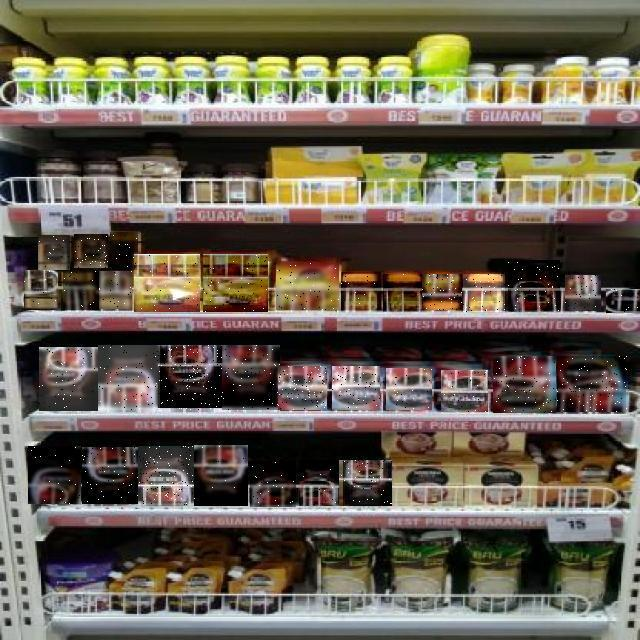Coffee: (158, 346, 222, 412), (98, 346, 160, 412), (220, 346, 280, 412), (558, 356, 628, 412), (135, 254, 201, 312), (39, 347, 98, 411), (203, 254, 268, 312), (493, 356, 556, 413), (138, 446, 194, 505), (194, 445, 248, 506), (82, 447, 138, 504), (28, 447, 81, 505), (276, 262, 339, 310), (508, 260, 560, 312), (342, 460, 392, 506), (278, 367, 327, 411), (250, 461, 296, 507), (332, 367, 380, 411), (300, 460, 344, 506), (441, 370, 488, 412), (386, 368, 432, 410), (463, 274, 505, 312), (341, 273, 381, 311), (383, 274, 422, 312), (63, 270, 99, 310), (423, 275, 463, 311), (97, 271, 133, 309), (24, 270, 58, 310), (565, 275, 601, 311), (74, 235, 108, 269), (38, 235, 70, 270), (110, 232, 138, 270), (606, 289, 640, 313)
